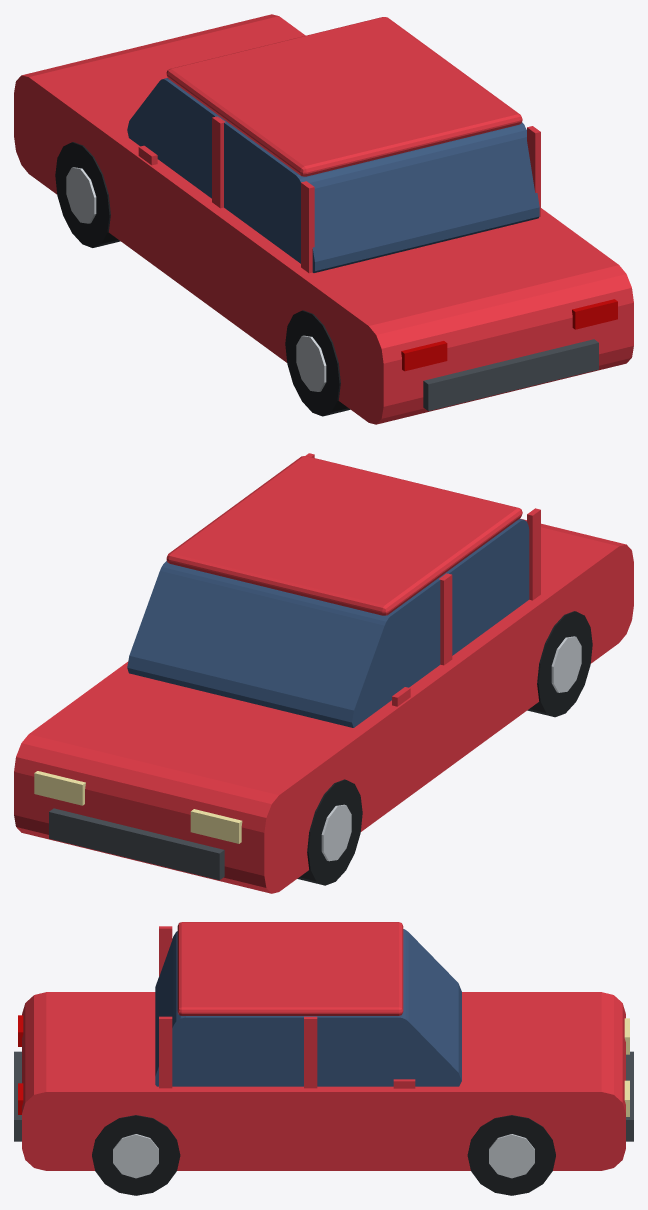
File: st_car_red.glb
3 views of the same model, one above another, from view 1: azimuth 30°, elevation 25°; view 2: azimuth 150°, elevation 25°; view 3: azimuth 270°, elevation 25° (orthographic). The views are drawn at different scales.
Parts seen in each view (by area): view 1: prism, prism.001, Cube, Cube.012, Cylinder, Cylinder.002, Cylinder.003, Cylinder.001, Cube.002, Cube.001, Cube.006, Cube.009 (+1 smaller); view 2: prism, prism.001, Cube, Cube.011, Cylinder, Cylinder.002, Cylinder.001, Cylinder.003, Cube.005, Cube.008, Cube.001, Cube.002; view 3: prism, prism.001, Cube, Cylinder.004, Cylinder.006, Cylinder.005, Cylinder.007, Cube.003, Cube.004, Cube.012, Cube.011, Cube.002.
Boxes of the visible parts, x1,y1,x2,y2 form: prism: [14, 14, 633, 424]; prism.001: [127, 78, 539, 272]; Cube: [166, 17, 522, 176]; Cube.012: [423, 339, 598, 410]; Cylinder: [285, 310, 350, 416]; Cylinder.002: [55, 142, 120, 247]; Cylinder.003: [66, 167, 96, 223]; Cylinder.001: [296, 335, 326, 391]; Cube.002: [301, 181, 314, 273]; Cube.001: [212, 116, 225, 208]; Cube.006: [401, 341, 447, 371]; Cube.009: [572, 299, 617, 329]; prism: [14, 518, 633, 893]; prism.001: [127, 519, 529, 727]; Cube: [166, 456, 522, 615]; Cube.011: [49, 808, 224, 880]; Cylinder: [527, 611, 592, 717]; Cylinder.002: [297, 779, 362, 885]; Cylinder.001: [551, 636, 581, 692]; Cylinder.003: [321, 804, 351, 861]; Cube.005: [190, 809, 242, 843]; Cube.008: [34, 771, 85, 805]; Cube.001: [439, 573, 452, 665]; Cube.002: [527, 508, 540, 600]; prism: [22, 992, 625, 1170]; prism.001: [155, 929, 461, 1086]; Cube: [177, 922, 403, 1015]; Cylinder.004: [92, 1115, 180, 1195]; Cylinder.006: [467, 1115, 555, 1195]; Cylinder.005: [113, 1134, 158, 1178]; Cylinder.007: [489, 1134, 534, 1178]; Cube.003: [304, 1016, 317, 1088]; Cube.004: [159, 1016, 172, 1088]; Cube.012: [14, 1051, 21, 1141]; Cube.011: [626, 1051, 633, 1141]; Cube.002: [159, 926, 172, 976].
Bounding box in the file's own units: 182 × 149 × 462.
